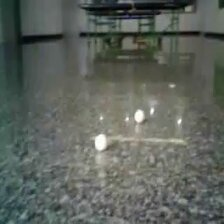w: (92, 133, 108, 151), (133, 109, 146, 124)
